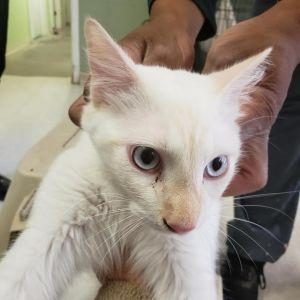siamese: (67, 12, 284, 245)
